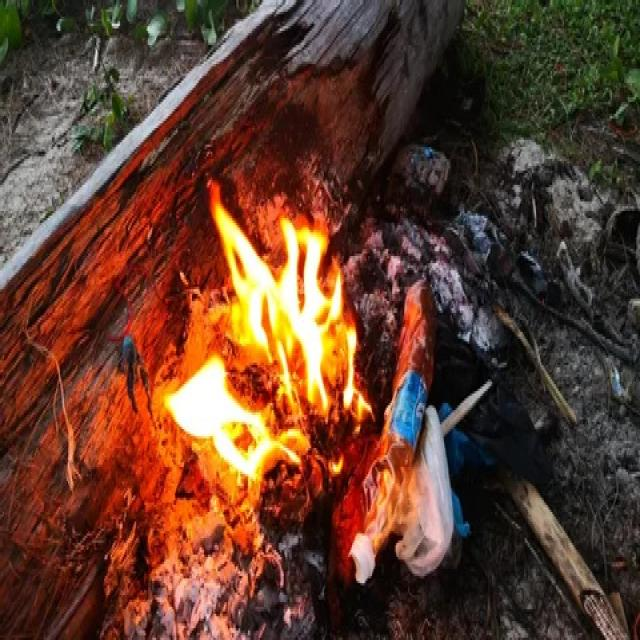fire: (162, 179, 358, 479)
